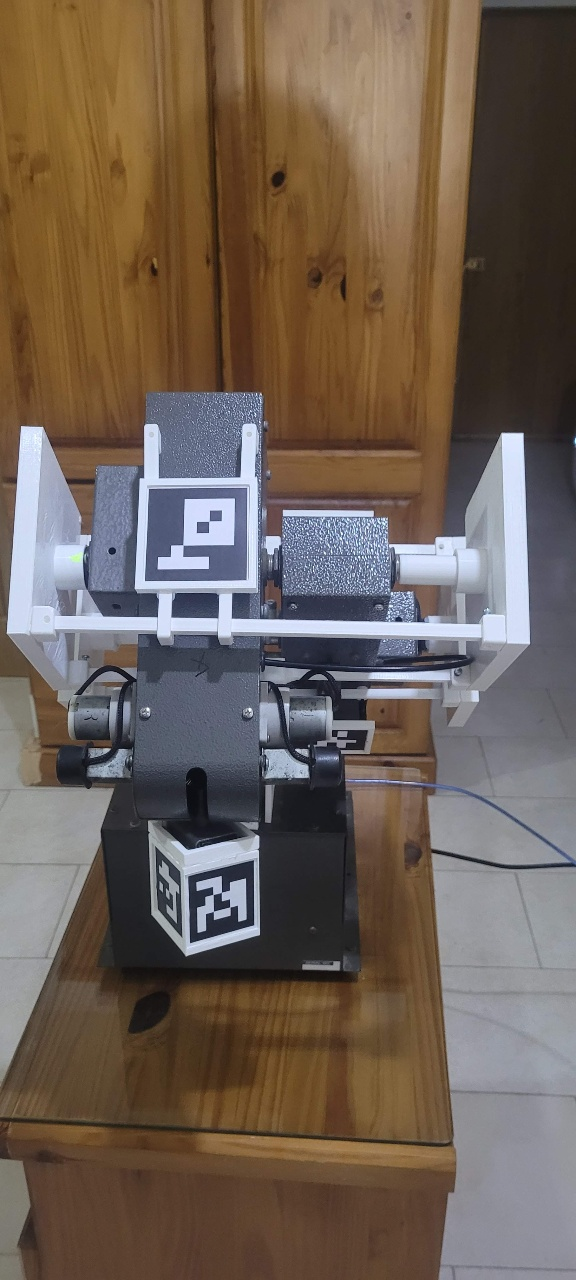Robot: (3, 390, 536, 957)
